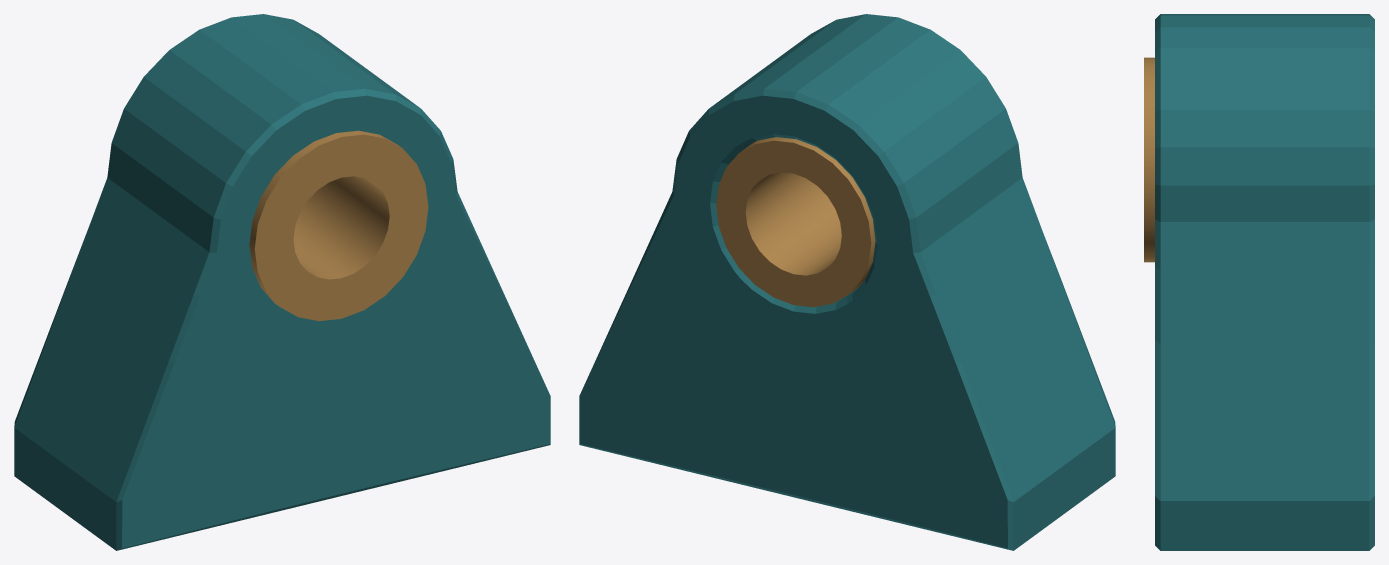
The model's file is VLAB_bearing.fbx.
The picture shows the model from 3 angles, left to right: view 1: azimuth 30°, elevation 25°; view 2: azimuth 150°, elevation 25°; view 3: azimuth 270°, elevation 25°; orthographic projection. The views are drawn at different scales.
Parts seen in each view (by area): view 1: VLAB_bearing_Housing_VIS, VLAB_bearing_AxleSocket_VIS; view 2: VLAB_bearing_Housing_VIS, VLAB_bearing_AxleSocket_VIS; view 3: VLAB_bearing_Housing_VIS, VLAB_bearing_AxleSocket_VIS.
Part boxes in pixels (left/top/right/bottom): VLAB_bearing_Housing_VIS: left=14, top=14, right=550, bottom=550; VLAB_bearing_AxleSocket_VIS: left=249, top=130, right=428, bottom=321; VLAB_bearing_Housing_VIS: left=579, top=14, right=1115, bottom=550; VLAB_bearing_AxleSocket_VIS: left=716, top=137, right=875, bottom=307; VLAB_bearing_Housing_VIS: left=1155, top=14, right=1374, bottom=550; VLAB_bearing_AxleSocket_VIS: left=1144, top=57, right=1154, bottom=262.
Size of the model in its own units: 0.028 by 0.025 by 0.0126.
